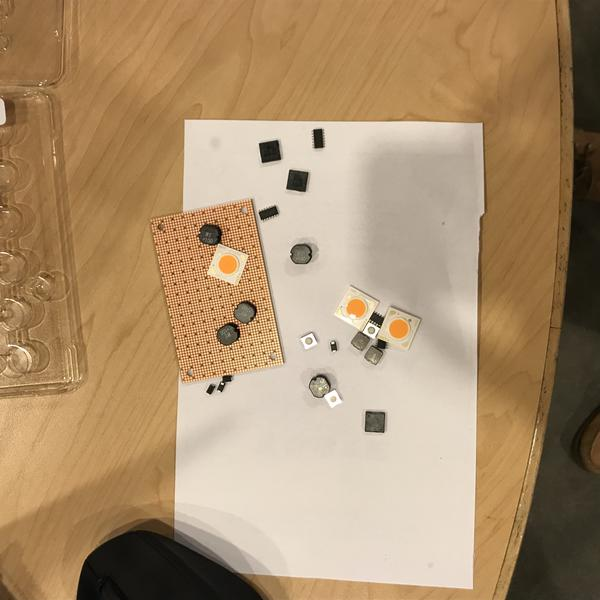board: (148, 198, 286, 384)
